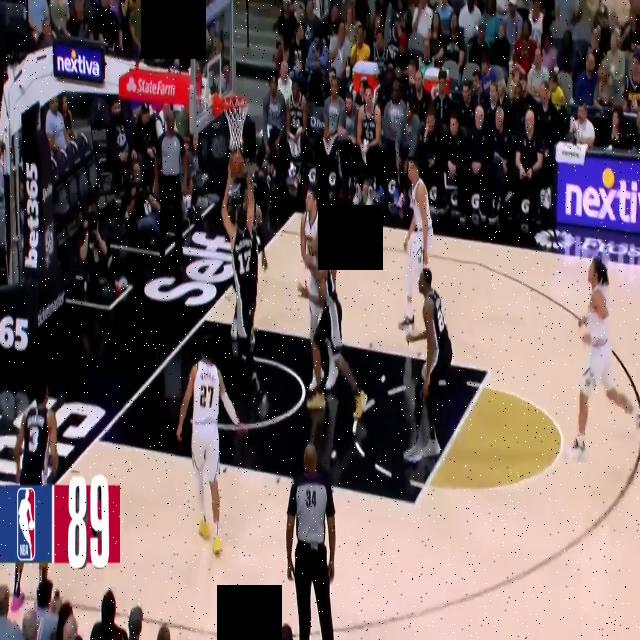Left Bottom Left Paint: (77, 410, 116, 470)
Left Bottom Right Paint: (398, 477, 433, 530)
Left Corner: (276, 182, 314, 246)
Left Top Left Paint: (185, 291, 222, 347)
Left Top Right Paint: (472, 341, 507, 403)
